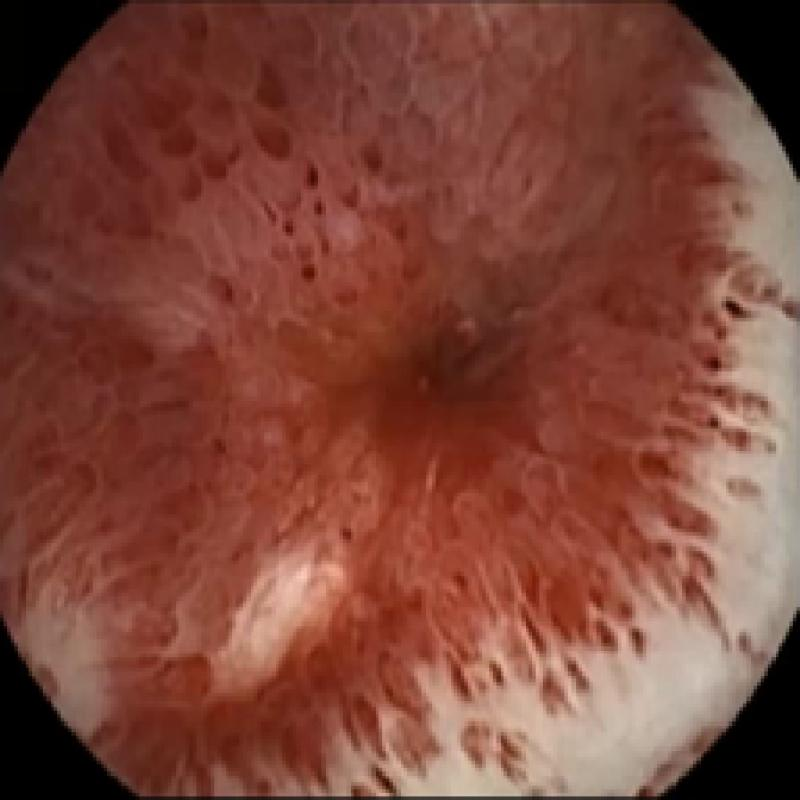bleeding: (0, 0, 721, 796)
